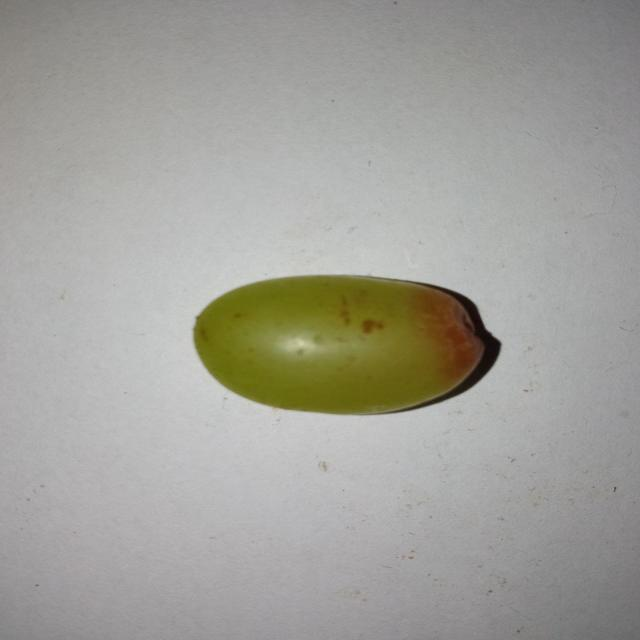fresh_grape: (190, 273, 485, 415)
